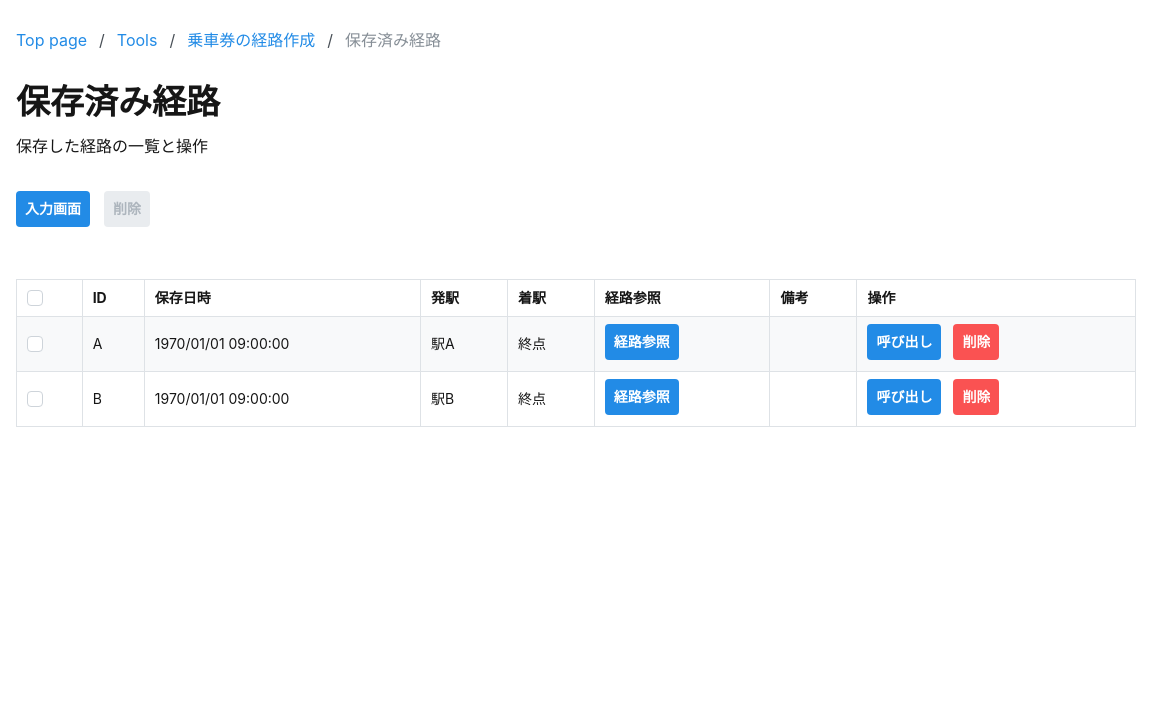
Test: SavedRoutesPage › 選択した経路を個別削除した後、残った経路を全選択して一括削除できる
Click the checkbox named "選択" in the row of "駅A".
click(35, 344)  # box [27,336,43,352]
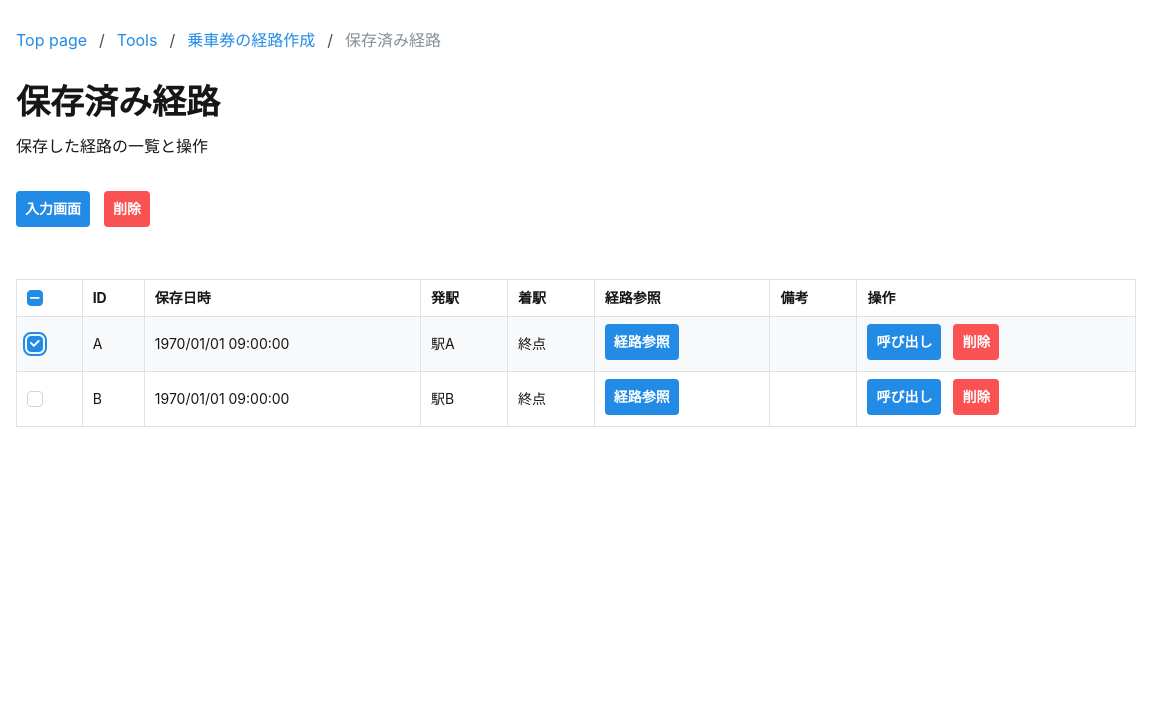
Click the button "削除" in the row of "駅A".
click(976, 342)  # box [953,324,999,360]
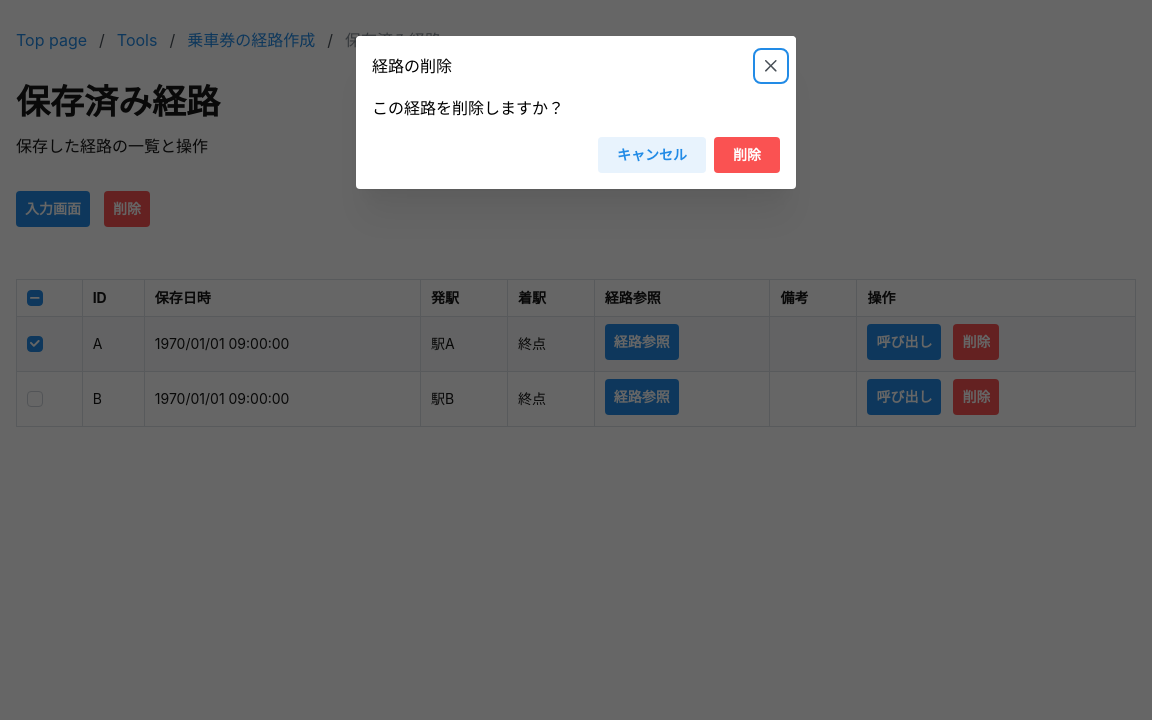
Click the button "削除".
click(747, 155)  # box [714,137,780,173]
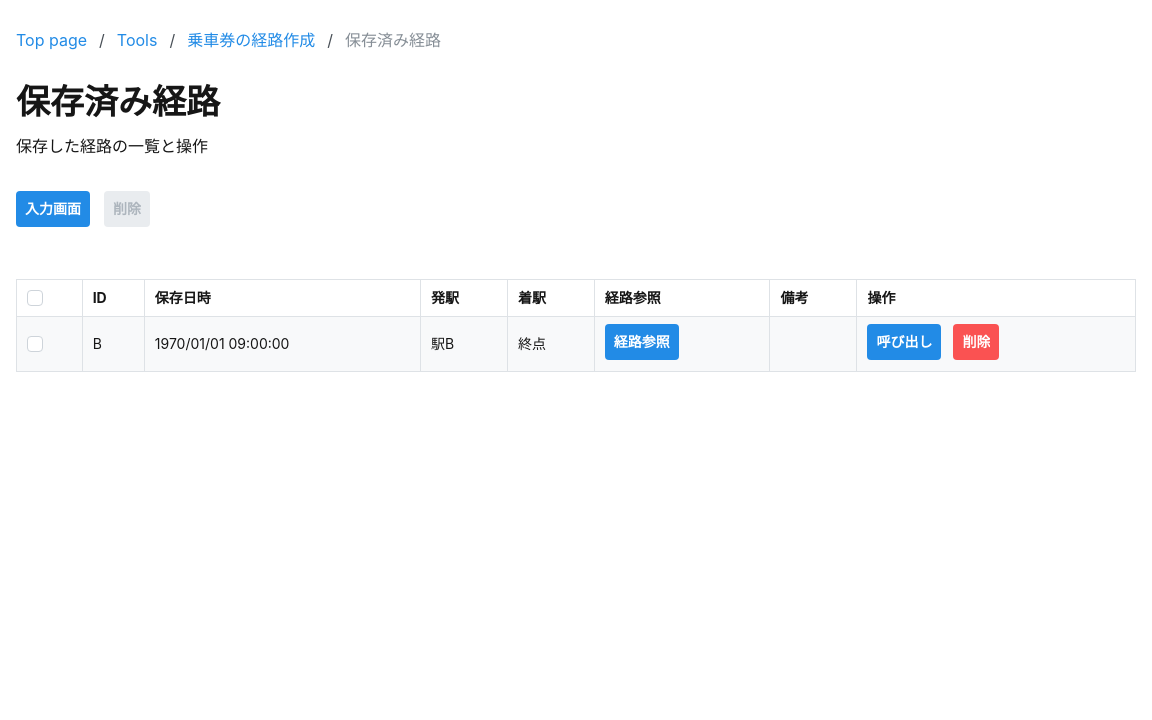
Now the dialog is gone
Now the cell "駅A" is gone
Now the button "削除" next to "入力画面" is disabled, box [104,191,150,227]
Click the checkbox named "全選択".
click(35, 298)  # box [27,290,43,306]
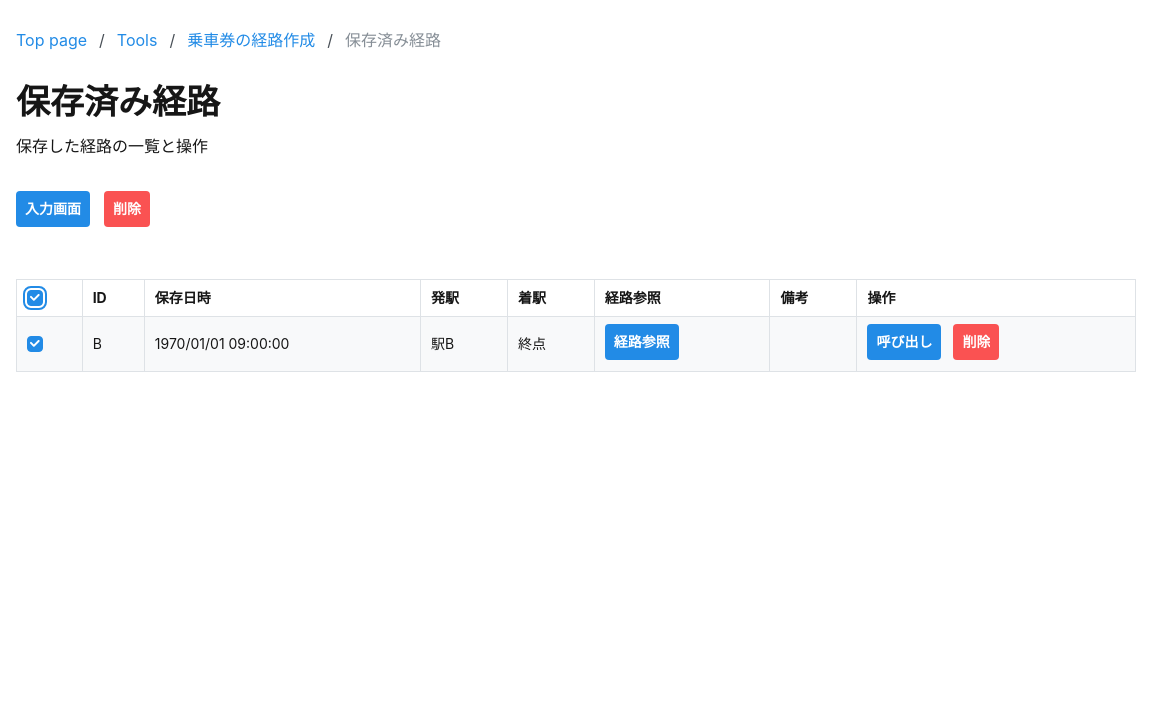
Now the checkbox named "選択" is checked, box [27,336,43,352]
Click the button "削除" next to "入力画面".
click(127, 209)  # box [104,191,150,227]
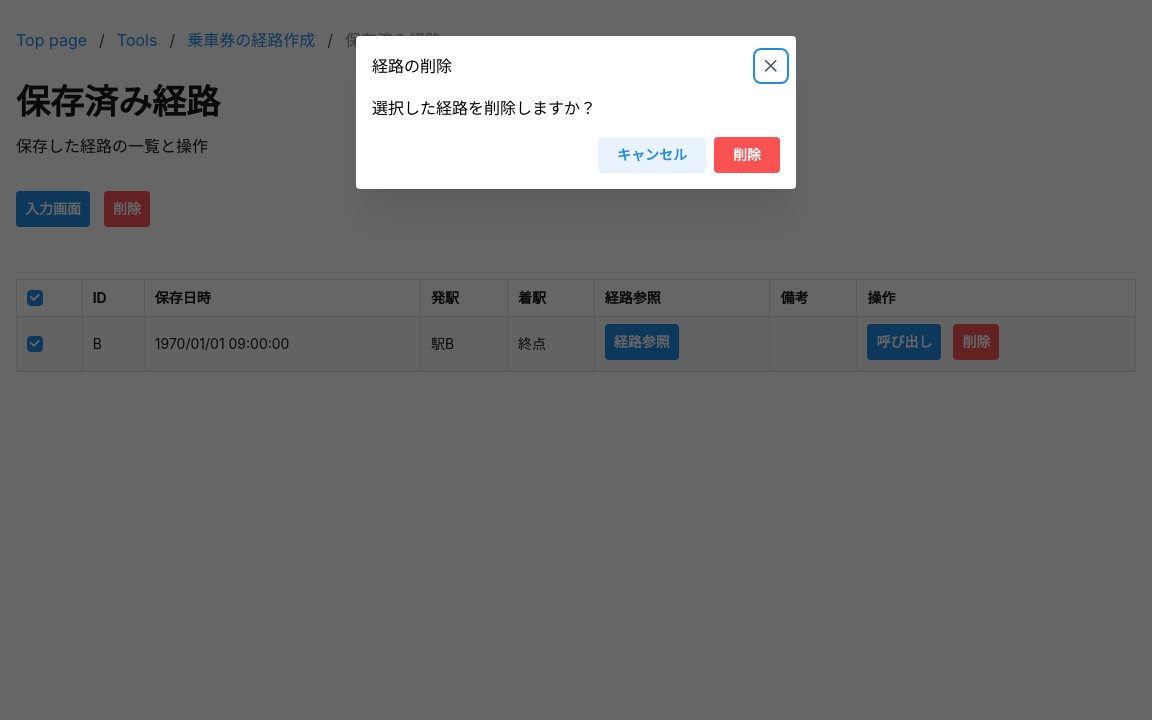
Click the button "削除".
click(747, 155)  # box [714,137,780,173]
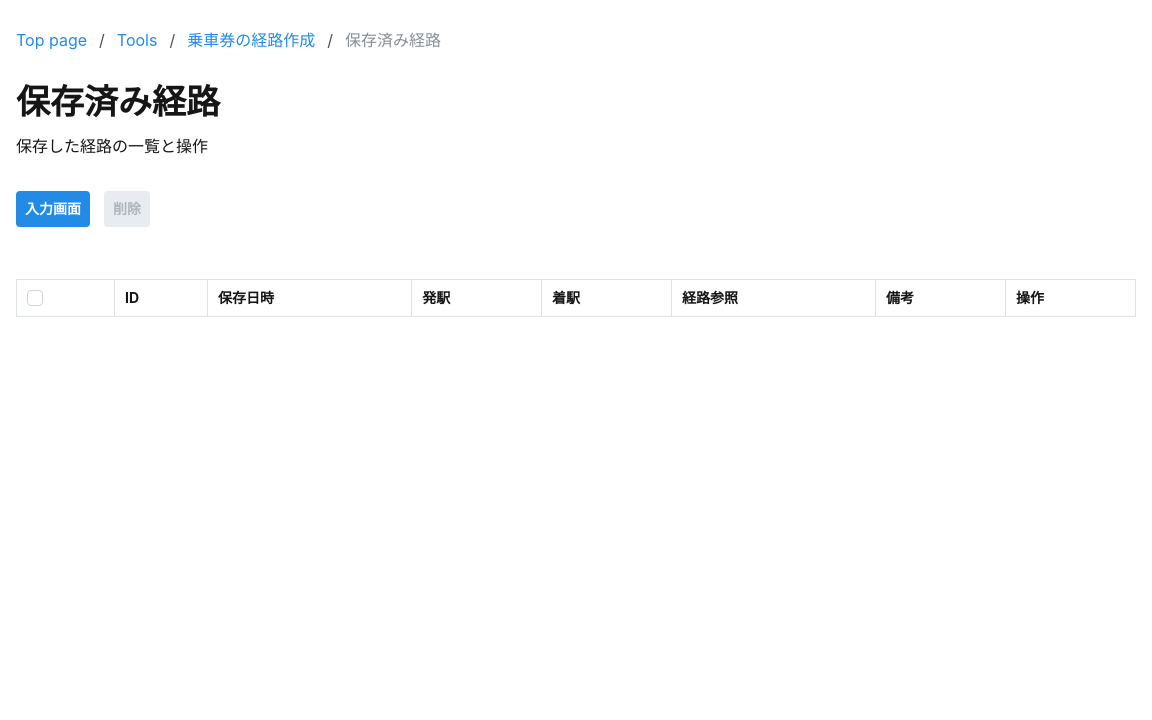
Now the dialog is gone
Now the cell "駅B" is gone
Now the button "削除" is disabled, box [104,191,150,227]
